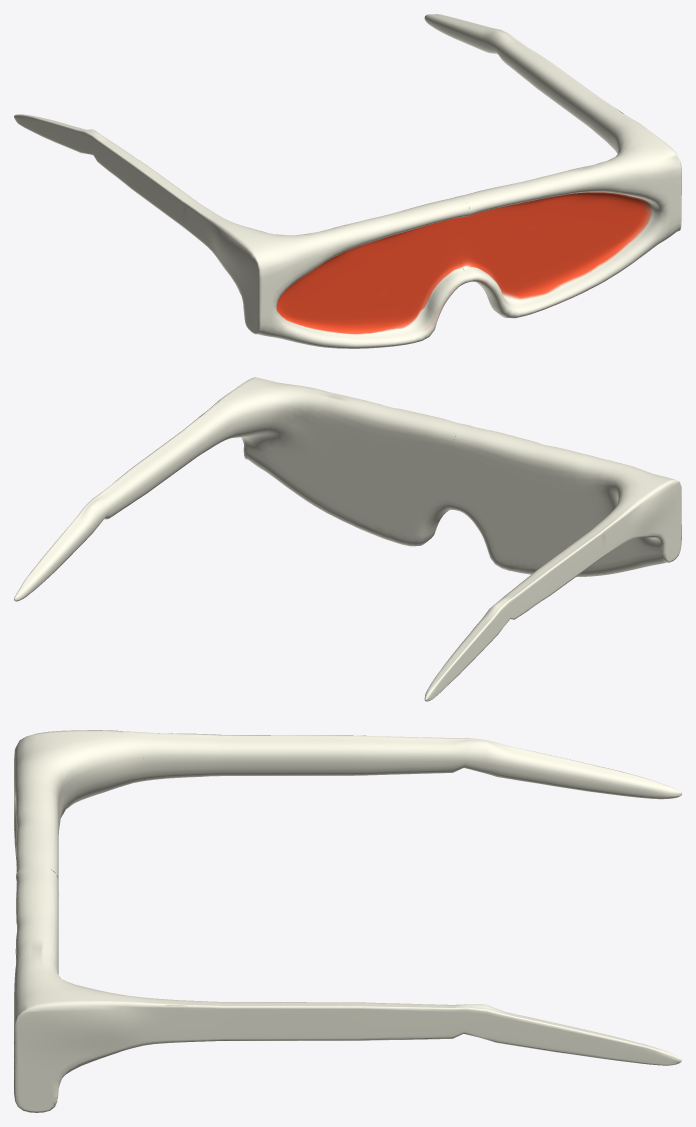
The model's file is orange_cool_glasses.glb.
3 renders of one model, top to bottom at view 1: azimuth 30°, elevation 25°; view 2: azimuth 150°, elevation 25°; view 3: azimuth 270°, elevation 25°, orthographic. The views are drawn at different scales.
Parts seen in each view (by area): view 1: Retopo_Plane; view 2: Retopo_Plane; view 3: Retopo_Plane.
Boxes of the visible parts, left/top/right/bottom form: Retopo_Plane: left=14, top=14, right=681, bottom=348; Retopo_Plane: left=14, top=377, right=681, bottom=701; Retopo_Plane: left=14, top=730, right=681, bottom=1112.
Size of the model in its own units: 3.62 by 1.05 by 3.71.
Materials: 1 (1 with a texture image).
